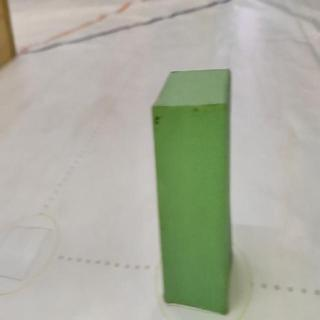greenbox: (150, 68, 232, 317)
